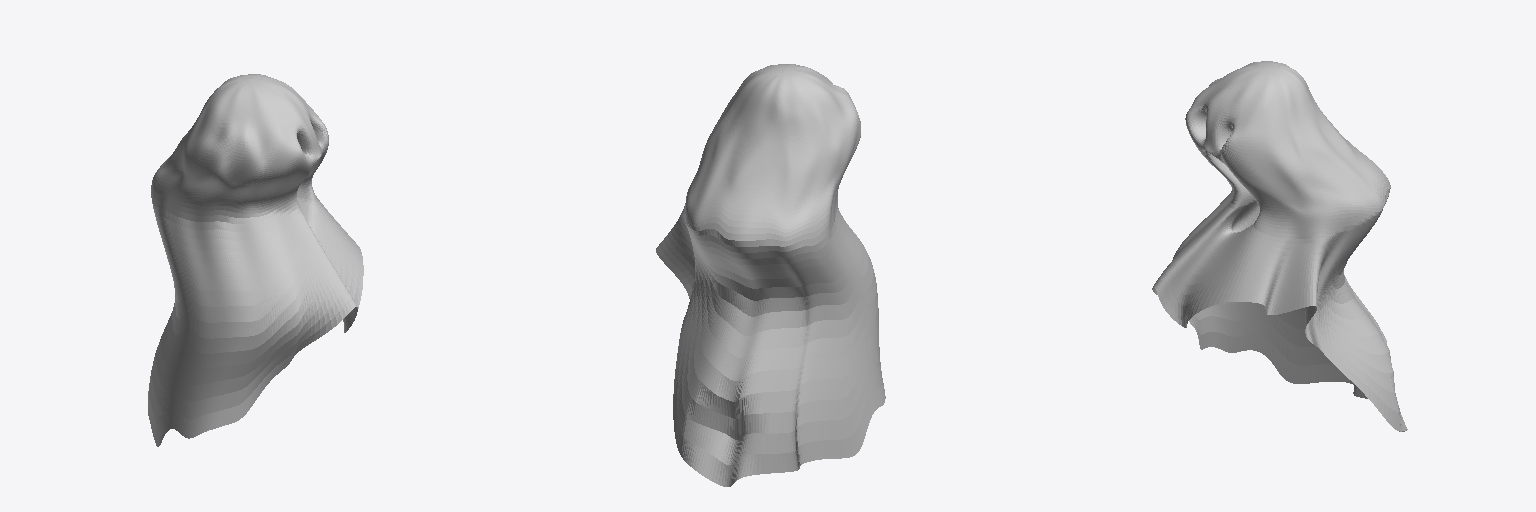
The model's file is ghost6.obj.
3 views of the same model, side by side, from view 1: azimuth 30°, elevation 25°; view 2: azimuth 150°, elevation 25°; view 3: azimuth 270°, elevation 25° (orthographic).
Visible parts, largest first — view 1: 球体; view 2: 球体; view 3: 球体.
Part boxes in pixels (x1,y1,x2,y2): 球体: (148, 74, 363, 446); 球体: (656, 64, 885, 486); 球体: (1152, 61, 1407, 431).
Size of the model in its own units: 8.62 by 15.89 by 10.03.